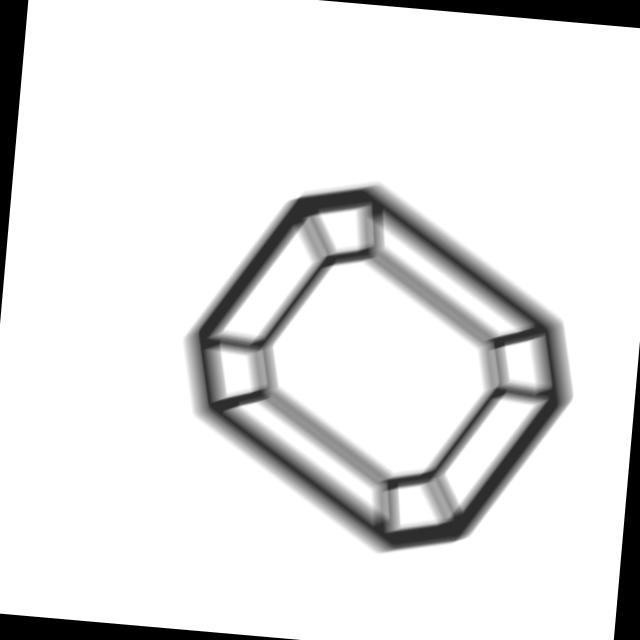emerald: (161, 158, 596, 573)
